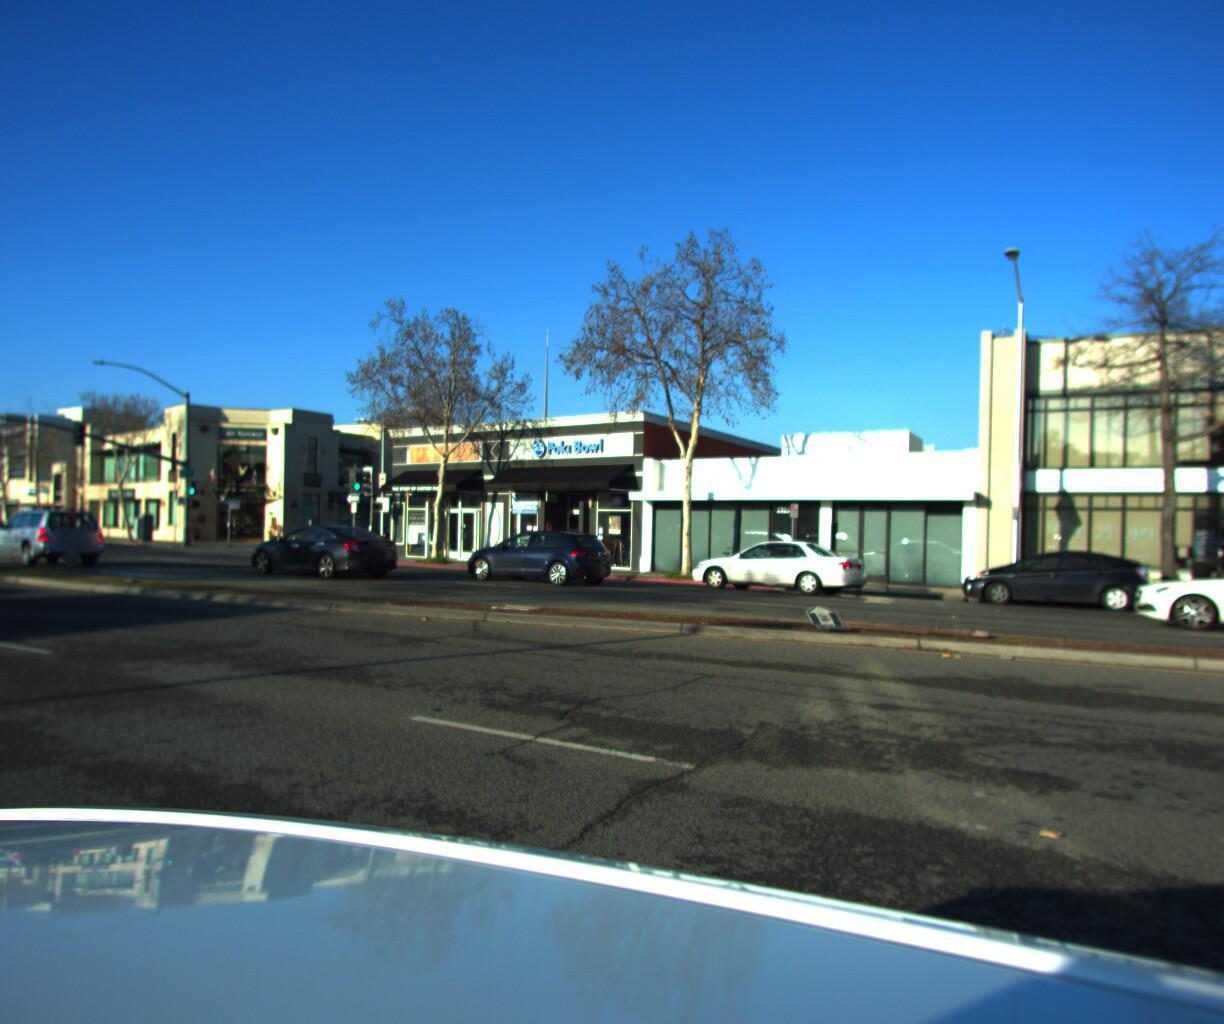car: (950, 539, 1157, 614), (688, 529, 876, 597), (234, 513, 407, 580), (456, 515, 622, 580), (1133, 544, 1224, 643), (0, 500, 120, 568)
